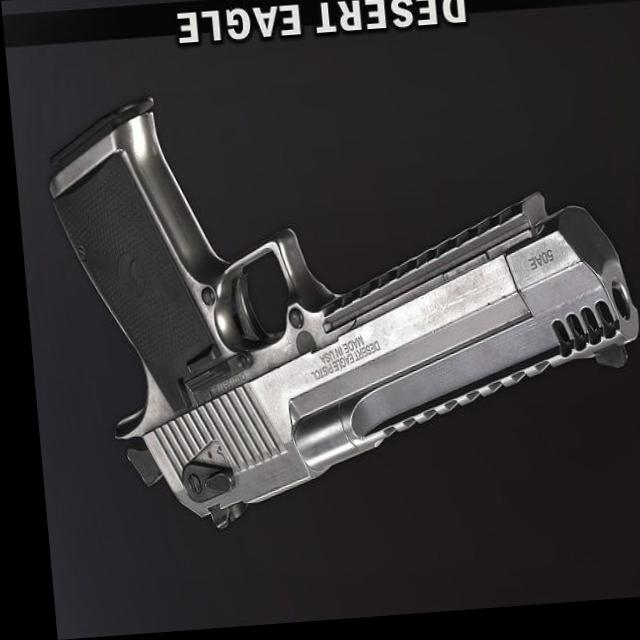handgun: (27, 77, 639, 547)
